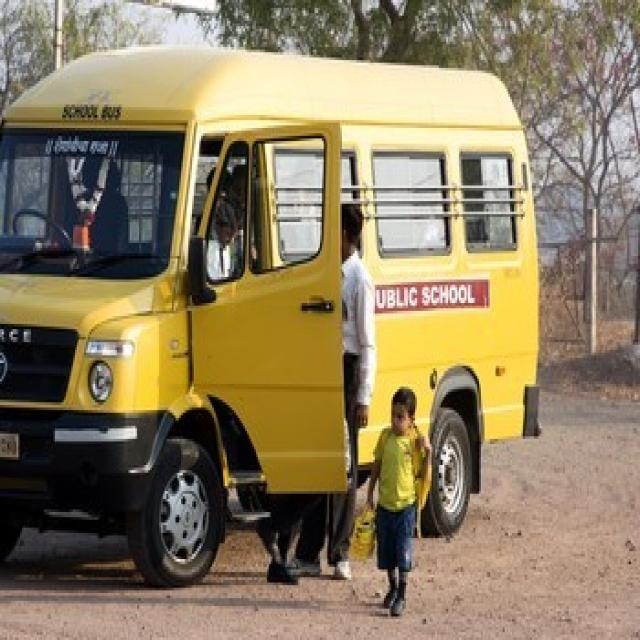bus: (0, 46, 539, 585)
